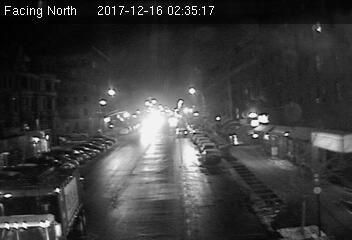car: (202, 148, 222, 164)
truck: (1, 174, 88, 240)
